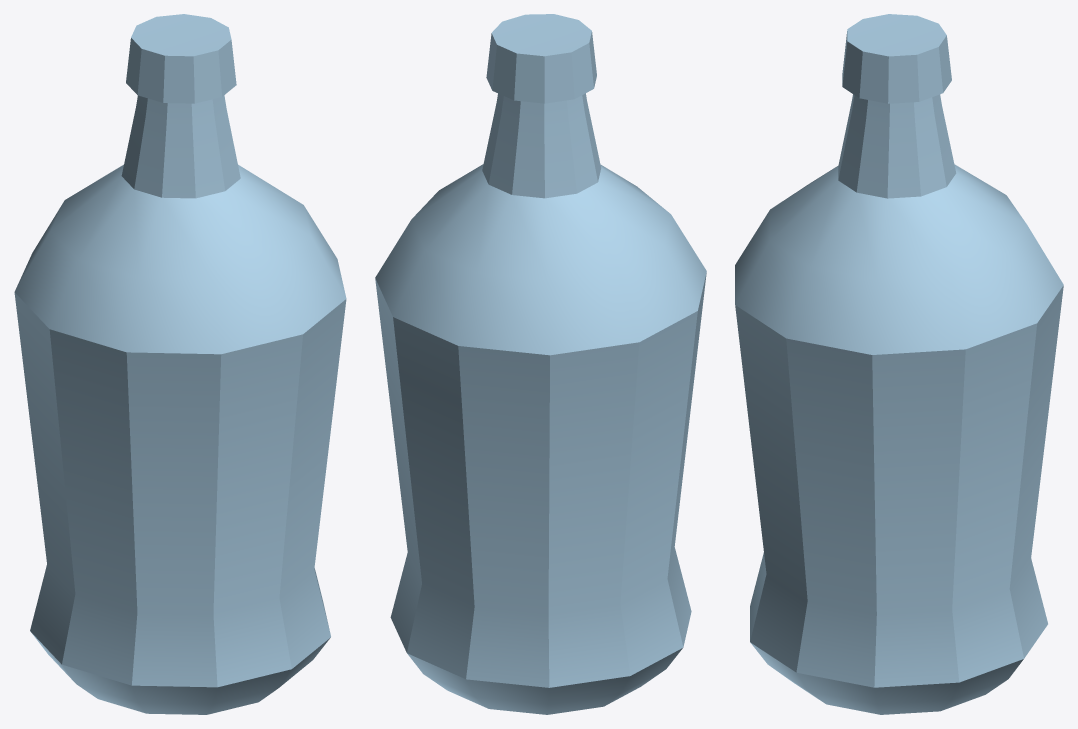
Rendered from 020_Shadow_Bottle_022.fbx.
3 views of the same model, side by side, from view 1: azimuth 30°, elevation 25°; view 2: azimuth 150°, elevation 25°; view 3: azimuth 270°, elevation 25° (orthographic).
Visible parts, largest first — view 1: Sphere.016; view 2: Sphere.016; view 3: Sphere.016.
Part boxes in pixels (<box>): Sphere.016: <box>14,14,346,714</box>; Sphere.016: <box>375,14,706,714</box>; Sphere.016: <box>735,14,1063,714</box>.
Size of the model in its own units: 121 by 258 by 120.
